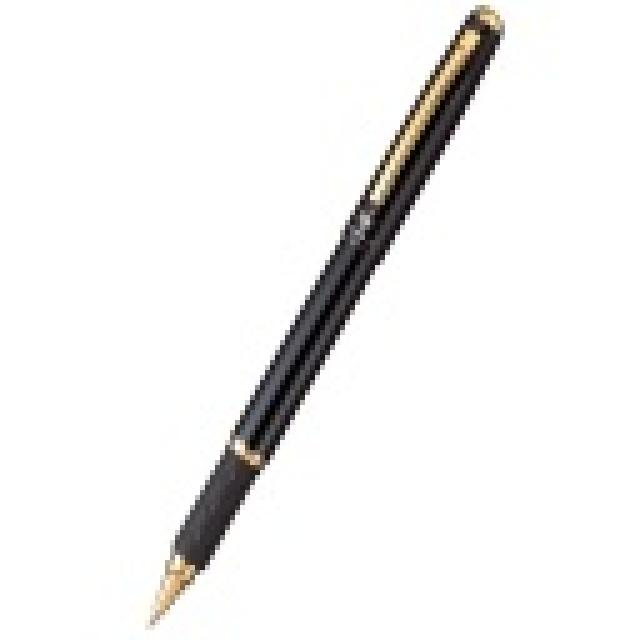pen: (138, 3, 517, 633)
